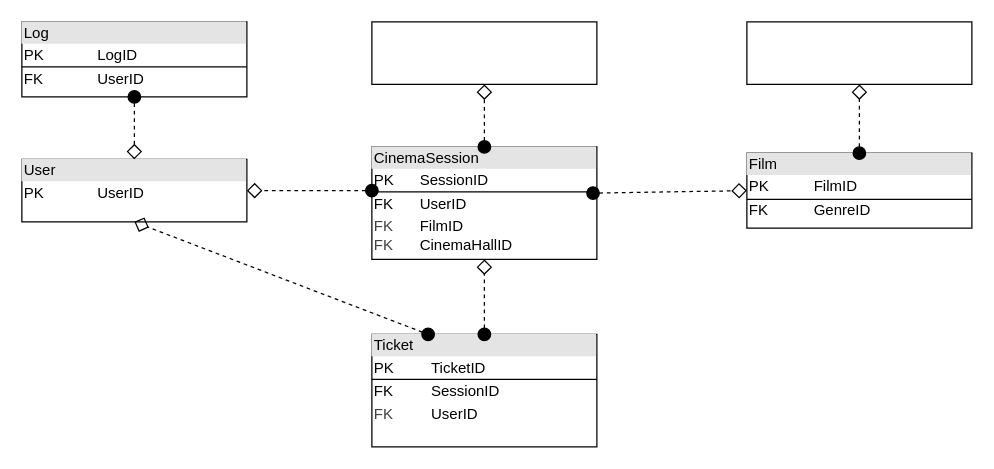
The diagram is 994 pixels wide and 469 high, and some of its shapes have lost their labels. Each missing label, with the centre of its shape:
CinemaHall PK CinemaHallID: point 484,52
Genre PK GenreID: point 859,52
